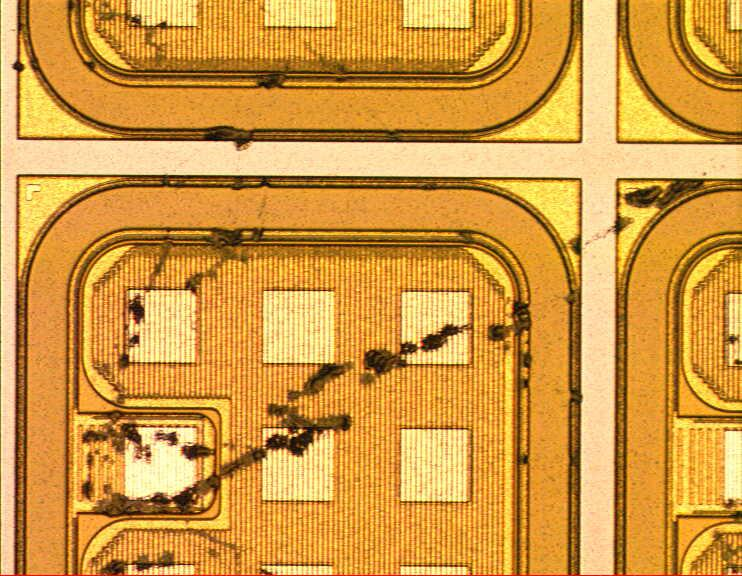SCRATCH: (79, 1, 727, 576)
